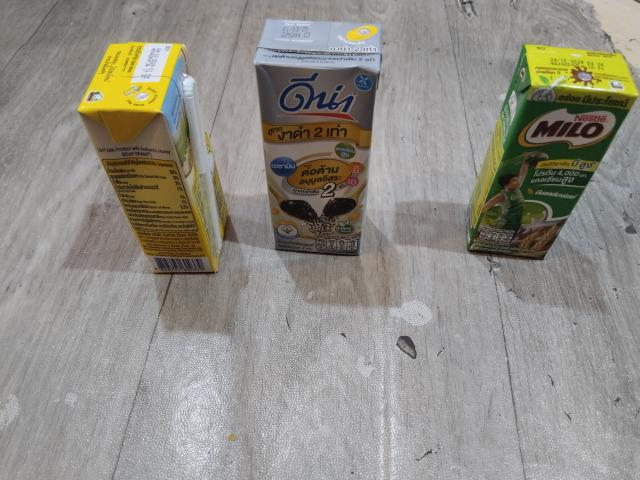drink_box: (63, 35, 244, 284), (453, 37, 638, 268), (240, 10, 382, 263)
